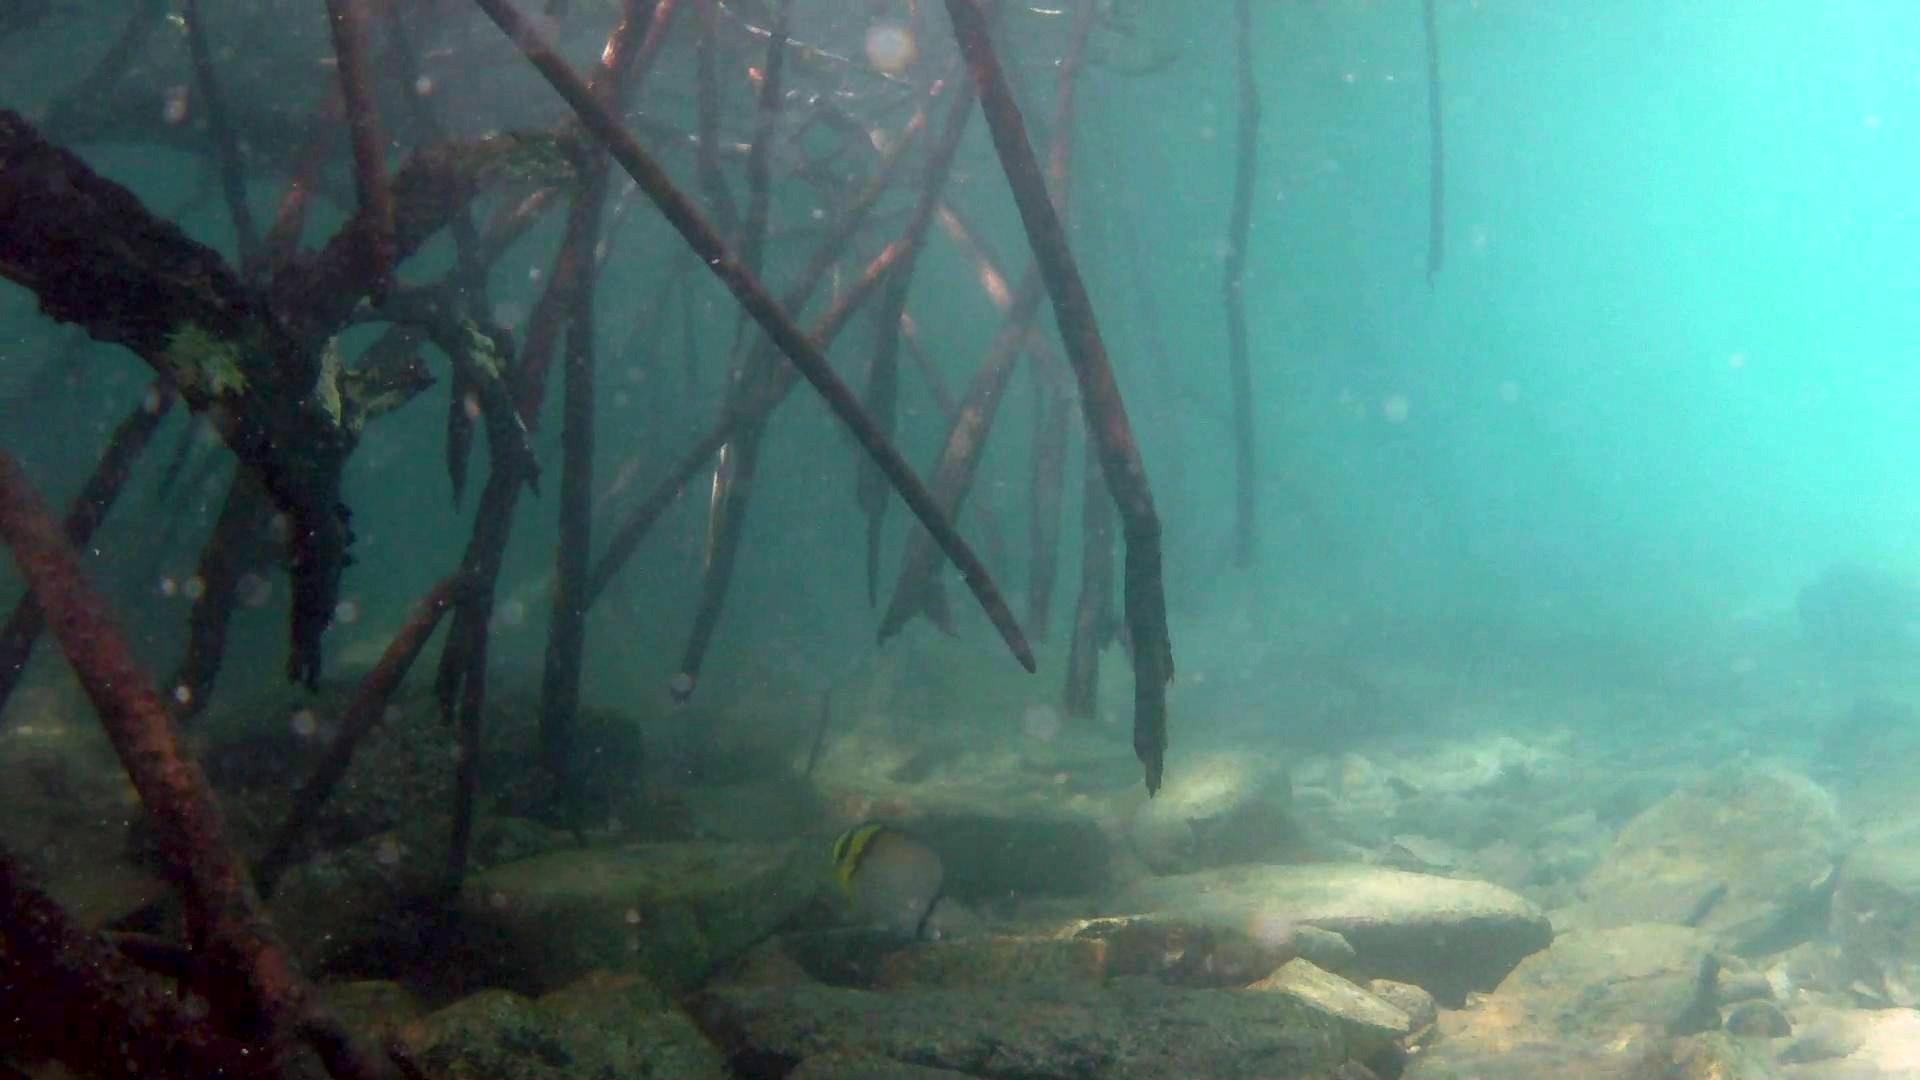chaetodon vagabundus: (824, 816, 949, 947)
